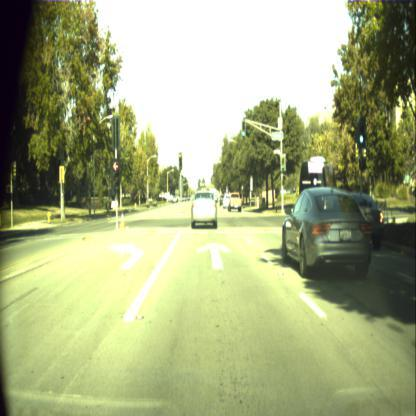Green: (358, 120, 364, 145), (242, 121, 245, 137), (282, 157, 284, 168)
RedLeft: (112, 160, 120, 194), (178, 152, 182, 168)
